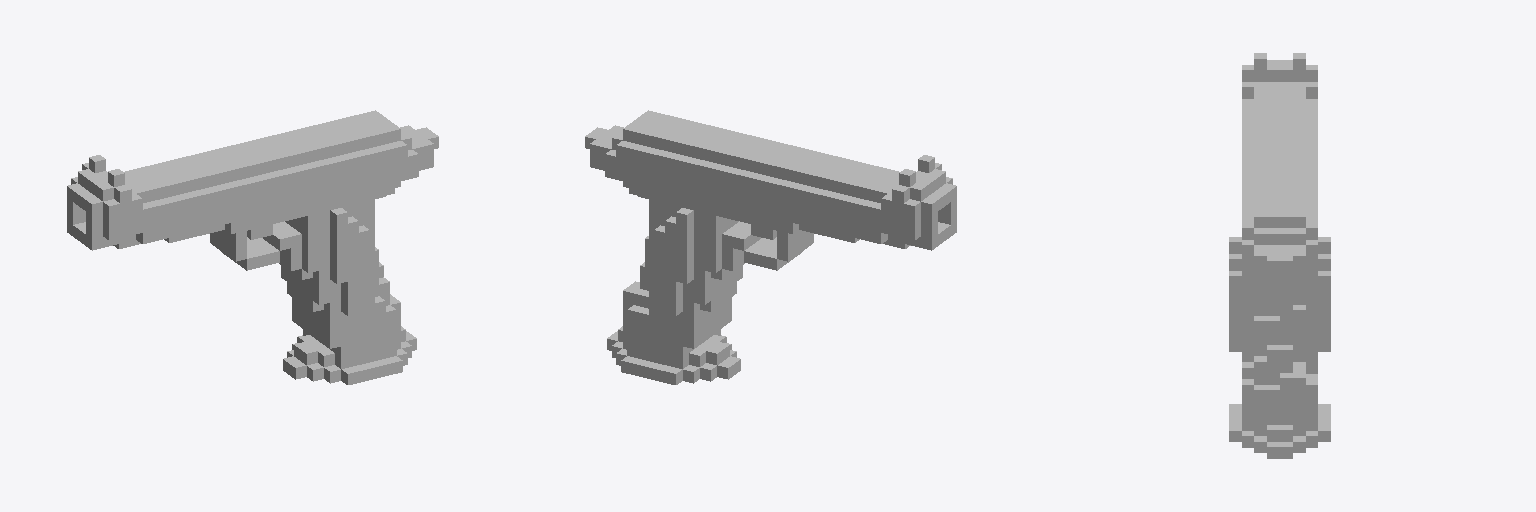
Rendered from pistol.obj.
The picture shows the model from 3 angles: view 1: azimuth 30°, elevation 25°; view 2: azimuth 150°, elevation 25°; view 3: azimuth 270°, elevation 25°; orthographic projection.
Visible parts, largest first — view 1: object 1; view 2: object 1; view 3: object 1.
Boxes of the visible parts, box(x1,y1,x2,y2) form: object 1: box(67, 110, 438, 384); object 1: box(585, 110, 956, 384); object 1: box(1229, 53, 1330, 458).
Bounding box in the file's own units: 3.2 × 2.2 × 0.8.